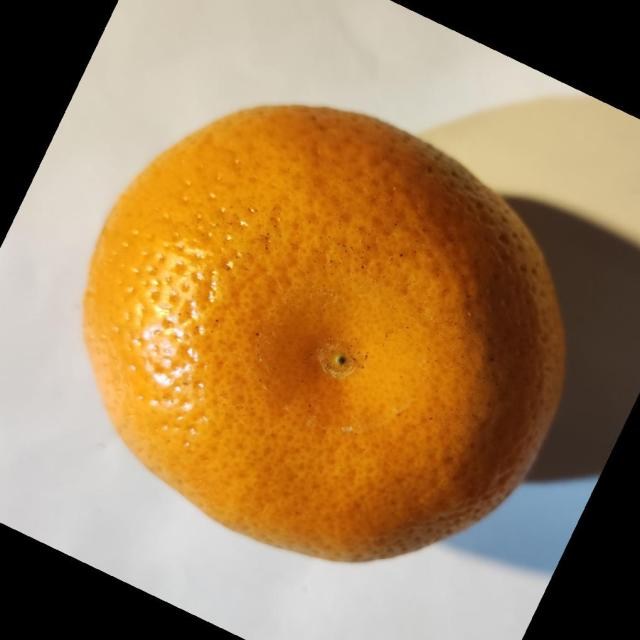fresh orange: (80, 102, 568, 564)
